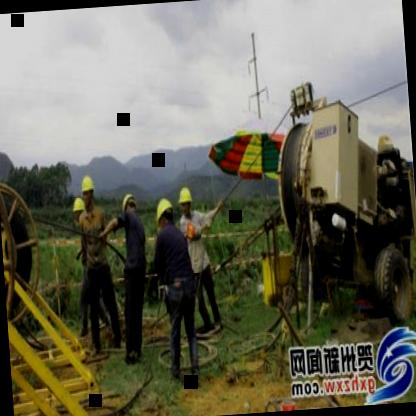helmet: (152, 194, 178, 231), (78, 170, 98, 209), (118, 192, 139, 222), (178, 186, 196, 220), (70, 195, 88, 224)
